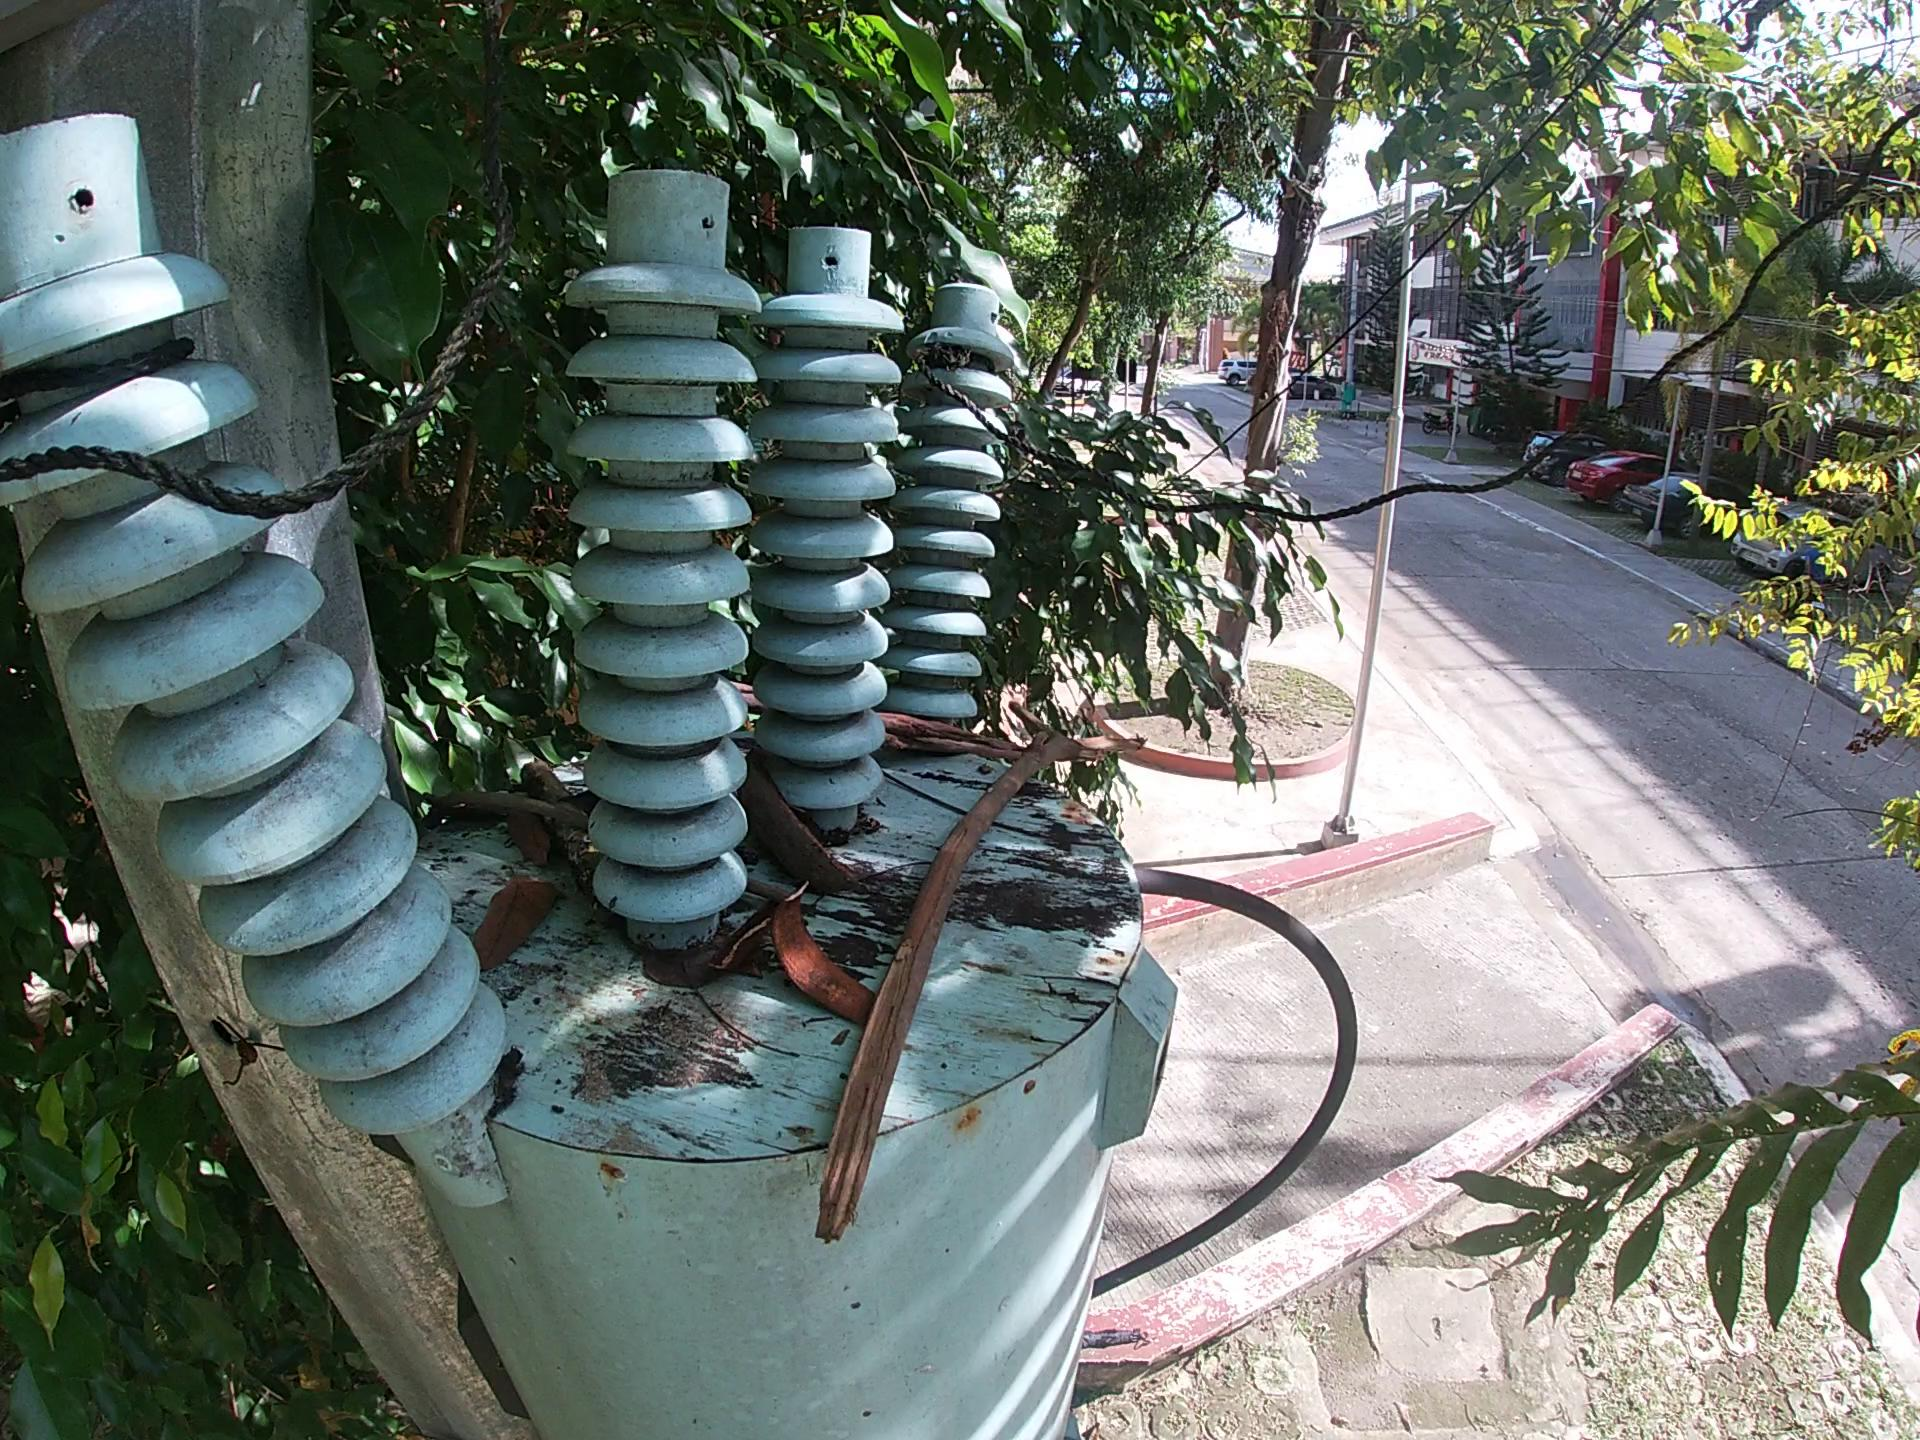leaf: (467, 870, 558, 976), (630, 947, 715, 1001), (506, 805, 561, 873)
mahogany fruit: (736, 752, 859, 895), (768, 879, 883, 1030), (708, 898, 779, 983)
tree branch: (813, 697, 1144, 1252), (517, 756, 605, 915), (874, 714, 1027, 767), (420, 790, 593, 835), (744, 876, 792, 902)
